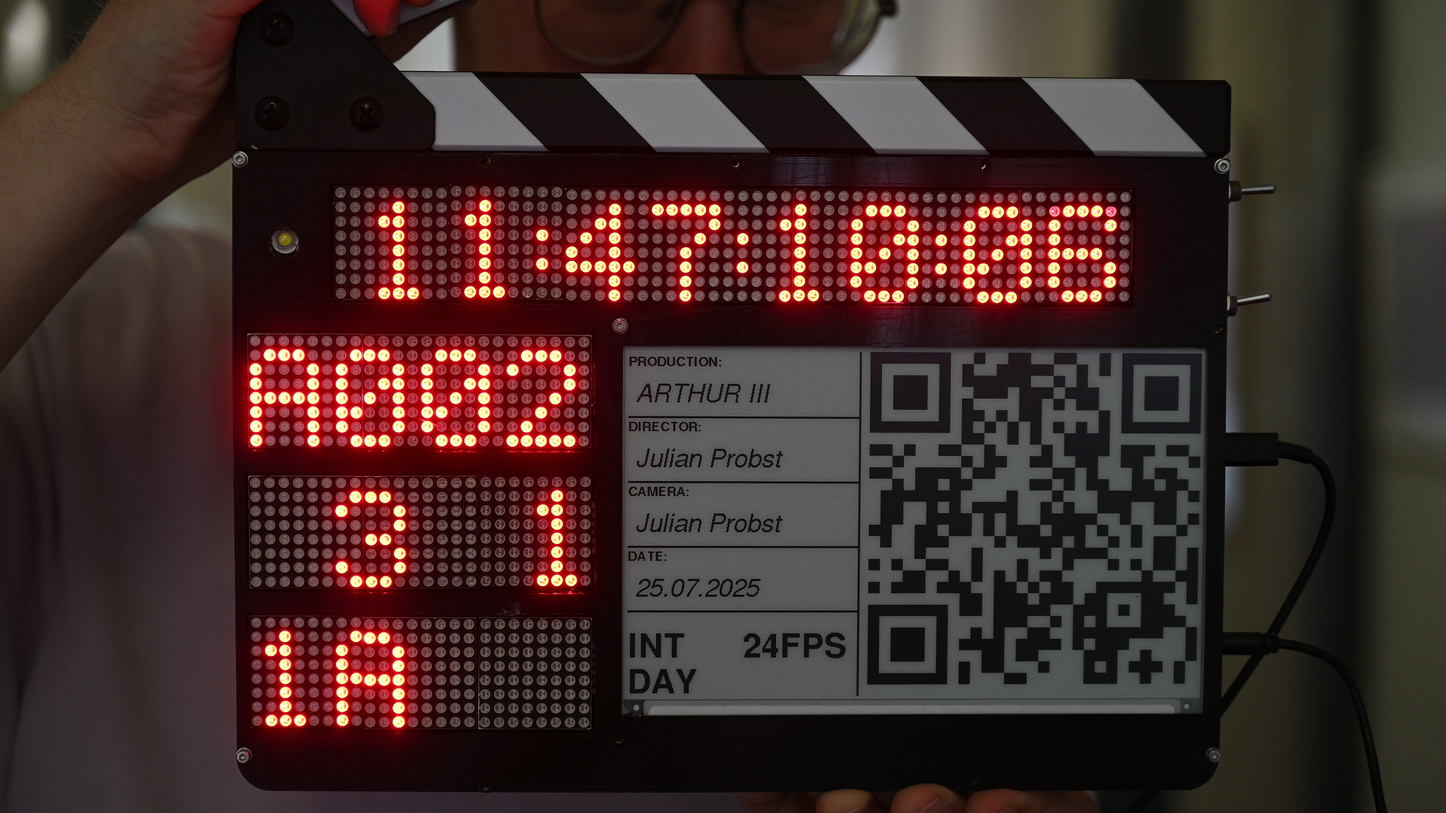ARC-SLATE: (239, 73, 1226, 787)
